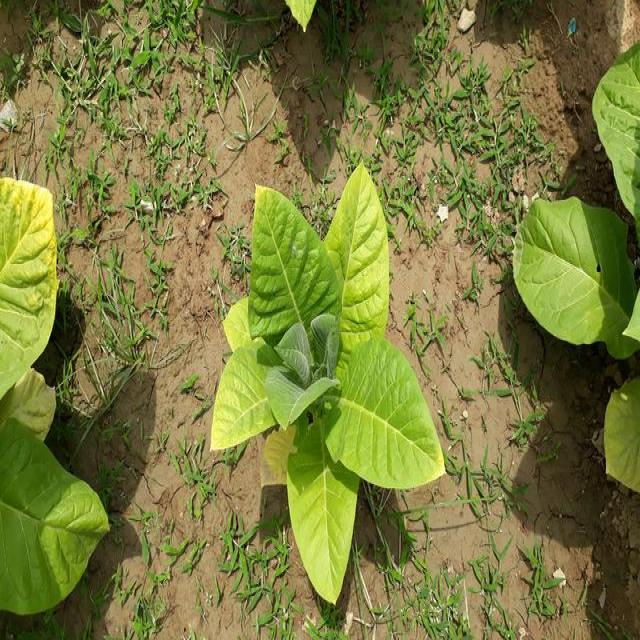crop: (216, 158, 448, 603)
